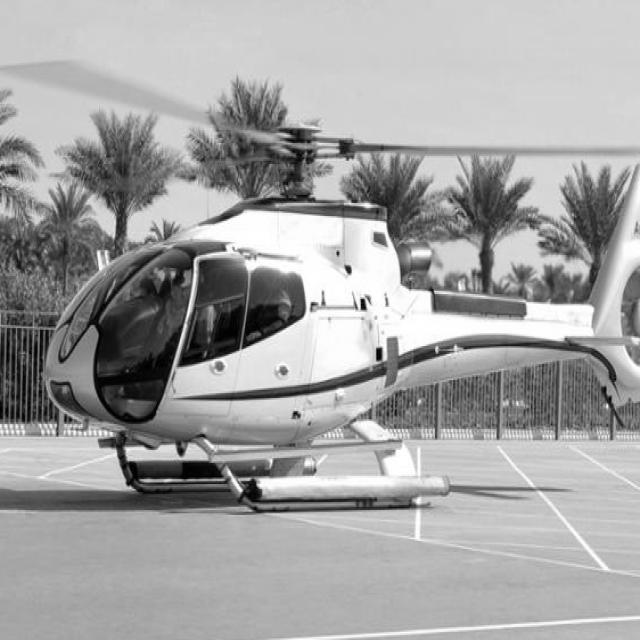helicopter: (26, 58, 640, 524)
